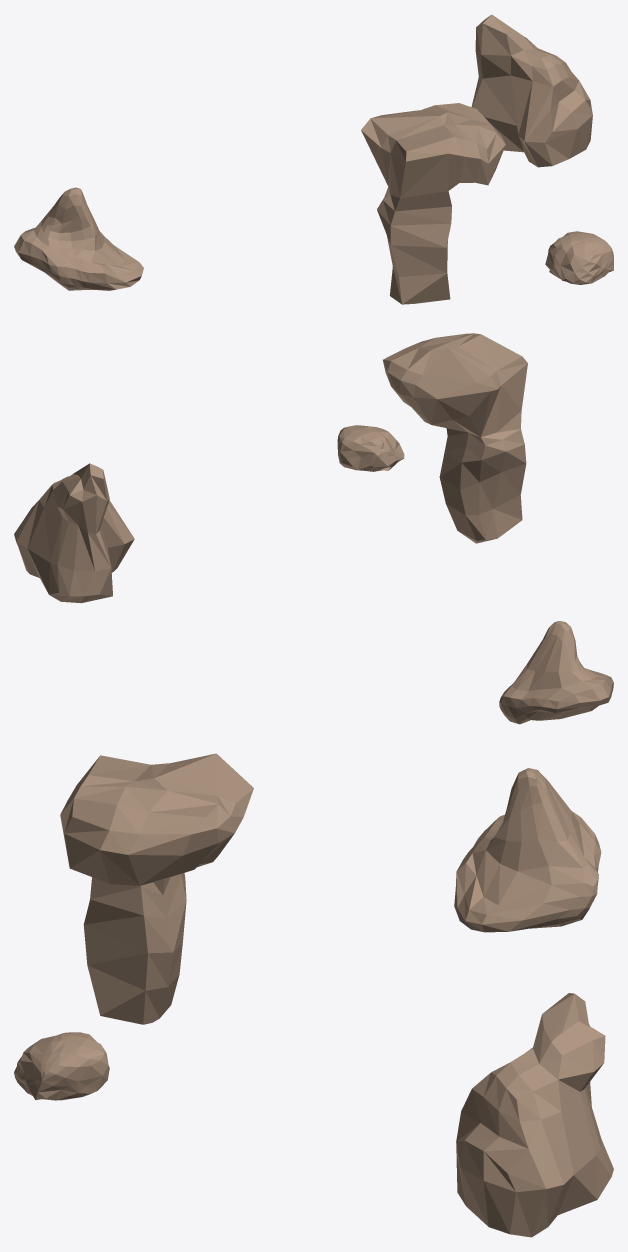
File: desert-22-5.glb
3 renders of one model, top to bottom at view 1: azimuth 30°, elevation 25°; view 2: azimuth 150°, elevation 25°; view 3: azimuth 270°, elevation 25°, orthographic. The views are drawn at different scales.
Parts seen in each view (by area): view 1: desert-22-5; view 2: desert-22-5; view 3: desert-22-5.
Part boxes in pixels (x1,y1,x2,y2): desert-22-5: (14, 14, 613, 304); desert-22-5: (14, 333, 613, 724); desert-22-5: (14, 753, 613, 1237).
Size of the model in its own units: 150 by 51.81 by 95.09.
